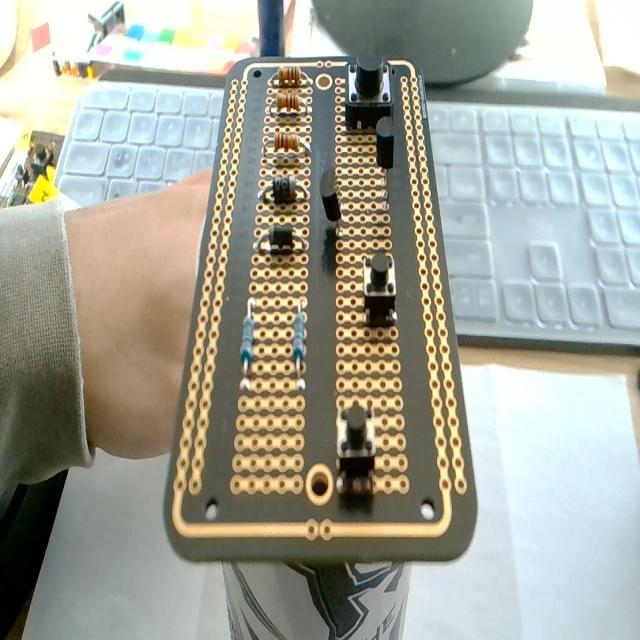diode: (255, 224, 308, 256), (261, 174, 307, 205)
resistor: (263, 127, 311, 165), (239, 297, 257, 394), (292, 300, 306, 392), (268, 94, 314, 118), (270, 68, 309, 89)
switch: (345, 52, 393, 132), (336, 401, 377, 494), (362, 248, 397, 327)
transistor: (375, 119, 395, 206), (320, 167, 342, 224)
